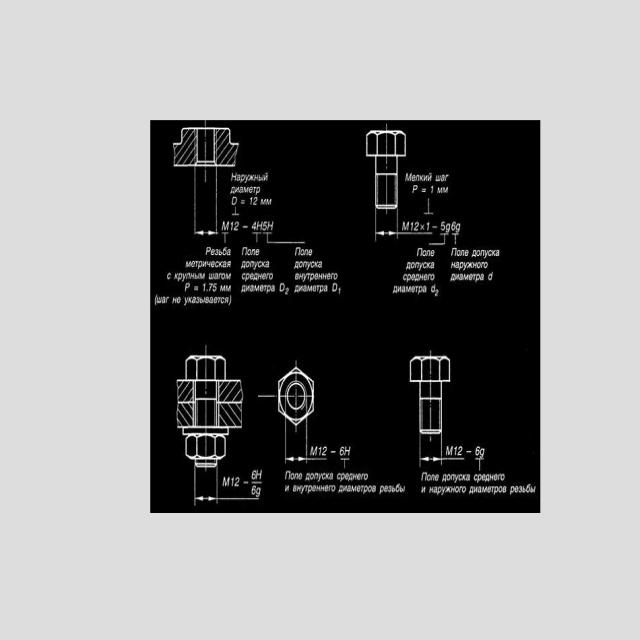marking_line: (194, 468, 260, 506), (375, 209, 434, 243), (285, 426, 328, 465), (194, 167, 218, 236), (420, 435, 465, 467)
numeric: (344, 445, 351, 456), (250, 484, 256, 496), (256, 486, 262, 498), (474, 446, 480, 457), (444, 224, 451, 233), (234, 476, 240, 486), (256, 470, 262, 480), (279, 282, 285, 292), (332, 283, 338, 293), (456, 223, 462, 233), (488, 272, 494, 282), (458, 447, 464, 457), (479, 448, 485, 458), (251, 469, 256, 480), (430, 284, 436, 293), (322, 446, 327, 456), (234, 221, 239, 231), (414, 221, 419, 231), (318, 444, 322, 456), (451, 222, 456, 231), (340, 447, 344, 457), (252, 221, 256, 231), (426, 221, 430, 231), (440, 220, 444, 230), (254, 196, 258, 205), (263, 221, 267, 230), (208, 283, 212, 292), (249, 198, 253, 206), (202, 284, 206, 292), (213, 283, 217, 291), (285, 288, 289, 296), (231, 477, 234, 487), (231, 220, 234, 230), (431, 185, 434, 195), (410, 222, 413, 232), (454, 446, 457, 456), (435, 289, 439, 296), (338, 287, 341, 295)
special_symbol: (232, 206, 239, 216), (240, 198, 246, 205), (193, 285, 199, 291), (422, 187, 427, 193), (432, 224, 438, 229), (242, 226, 249, 229)
